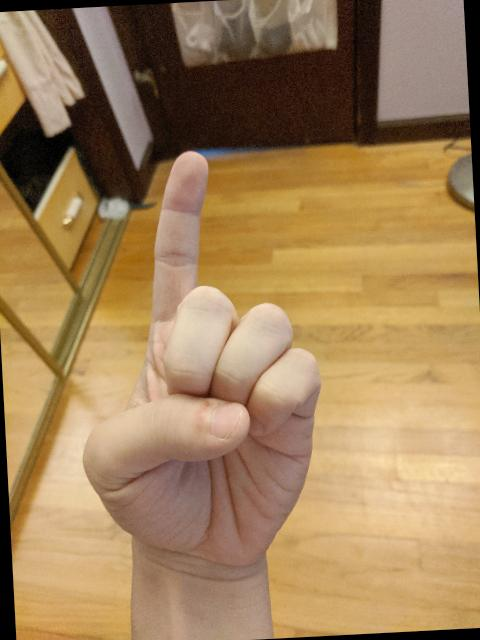D: (61, 138, 338, 582)
